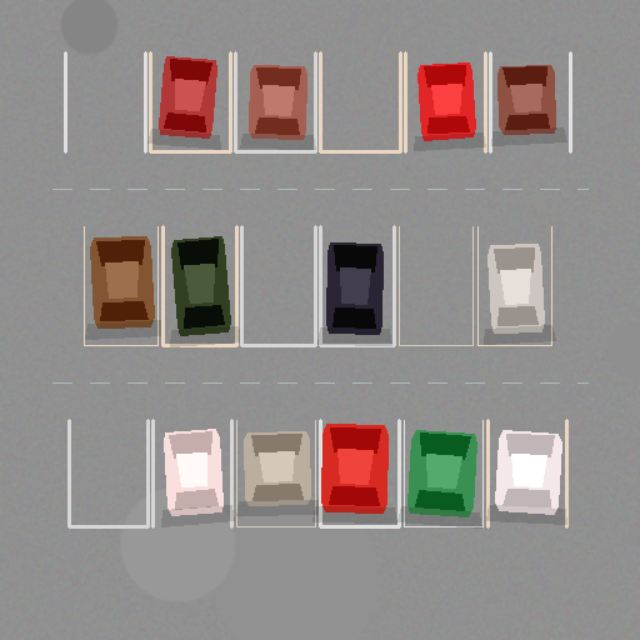space-empty: (241, 226, 315, 345), (399, 226, 472, 345), (69, 420, 147, 526), (65, 53, 145, 151), (320, 53, 400, 151)
space-occupied: (84, 226, 158, 345), (162, 226, 236, 345), (320, 226, 394, 345), (478, 226, 551, 345), (236, 420, 315, 526), (320, 420, 399, 526), (404, 420, 483, 526), (487, 420, 566, 526), (153, 420, 231, 526), (150, 53, 230, 151), (235, 53, 315, 151), (405, 53, 485, 151), (490, 53, 570, 151)
